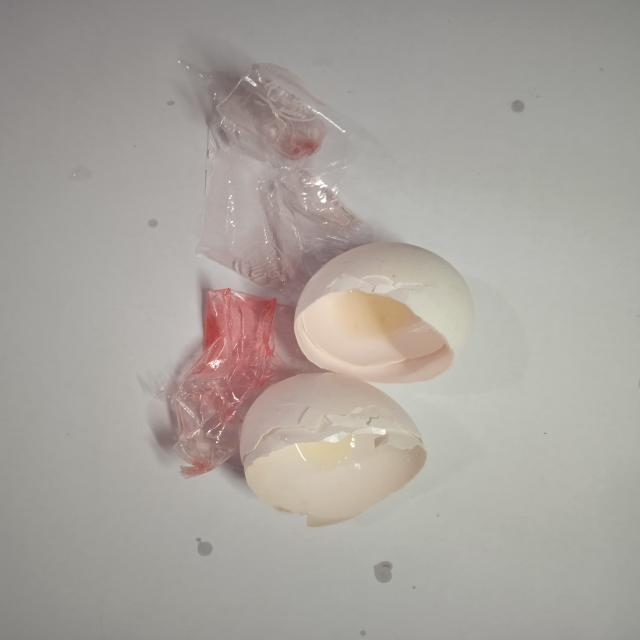egg shell: (238, 372, 427, 527), (294, 243, 472, 384)
